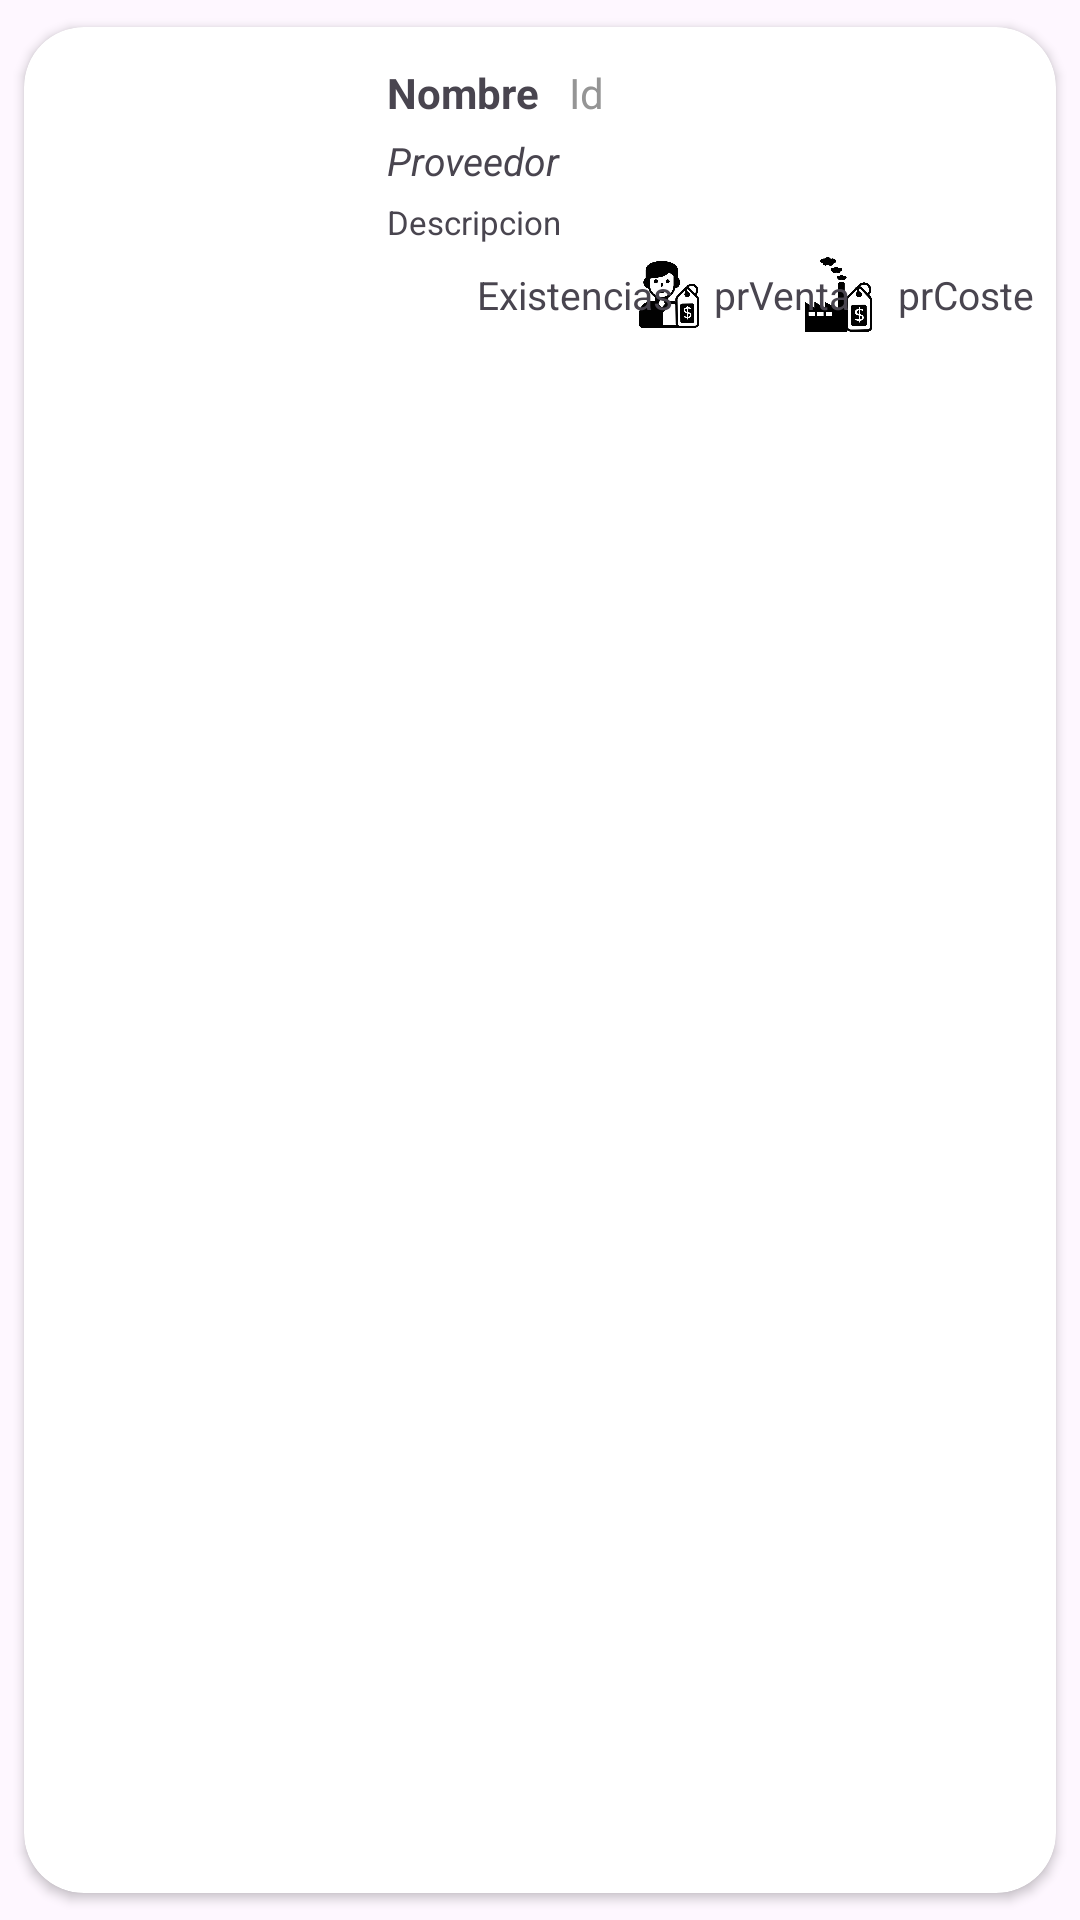

Icons on this 1080x1920 Android screen, each with its box as (x1, y1, x2, y2):
precio coste: (801, 257, 872, 332)
precio venta: (639, 261, 699, 328)
